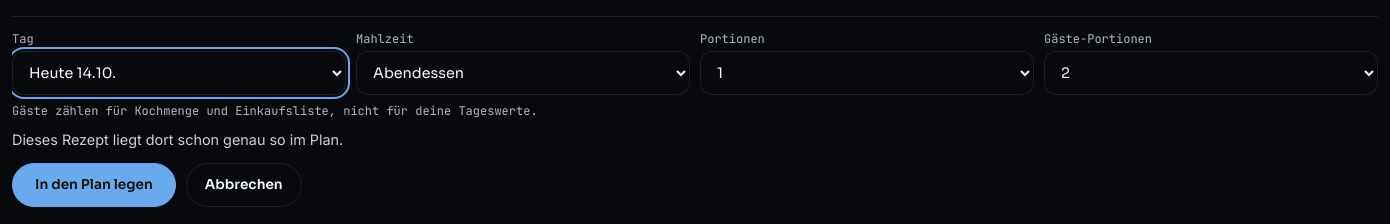
PlanPicker — Gäste-Portionen › derselbe Eintrag inkl. Gäste → 'liegt dort schon genau so'; andere Gäste → wird ersetzt
The image size is (1390, 224).
Expected: the text "Dieses Rezept liegt dort schon genau so im Plan." is shown, [12,131,343,148]
Select "3" in the dropdown labelled "Gäste-Portionen": {"x": 1211, "y": 73} [1044,51,1378,95]
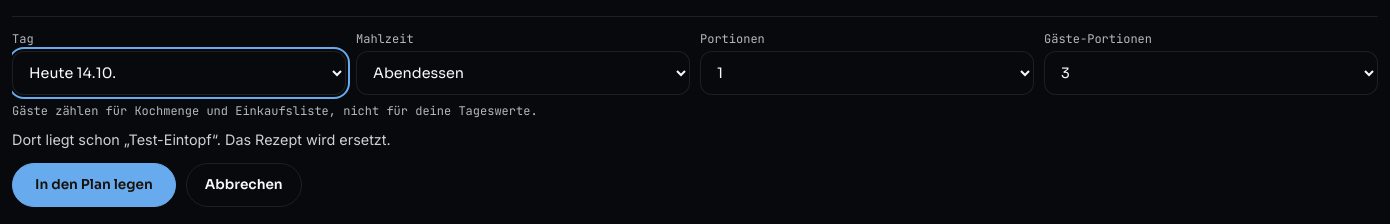
Now the text "Dieses Rezept liegt dort schon genau so im Plan." is gone
